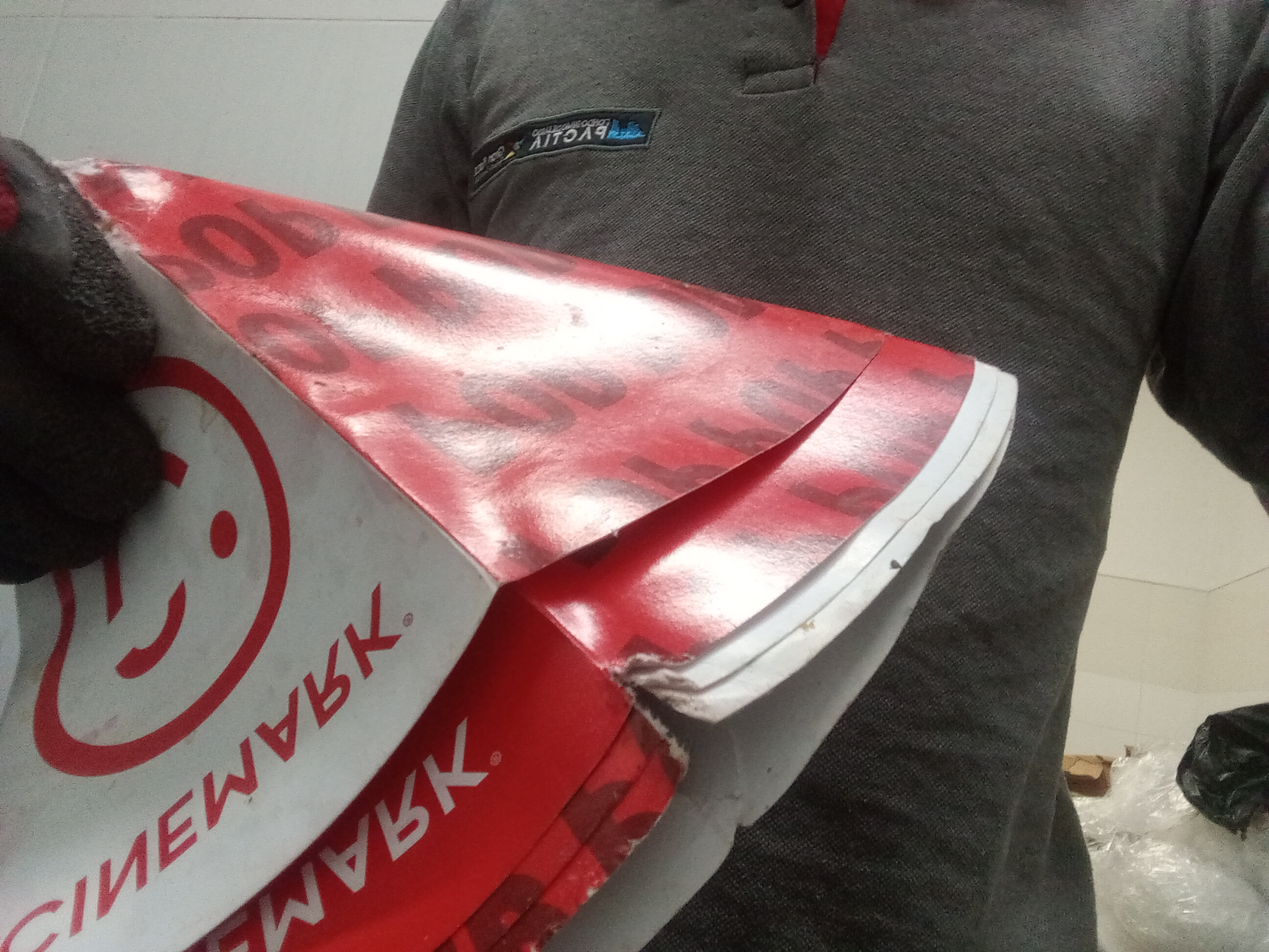Carton: (0, 159, 1029, 944)
